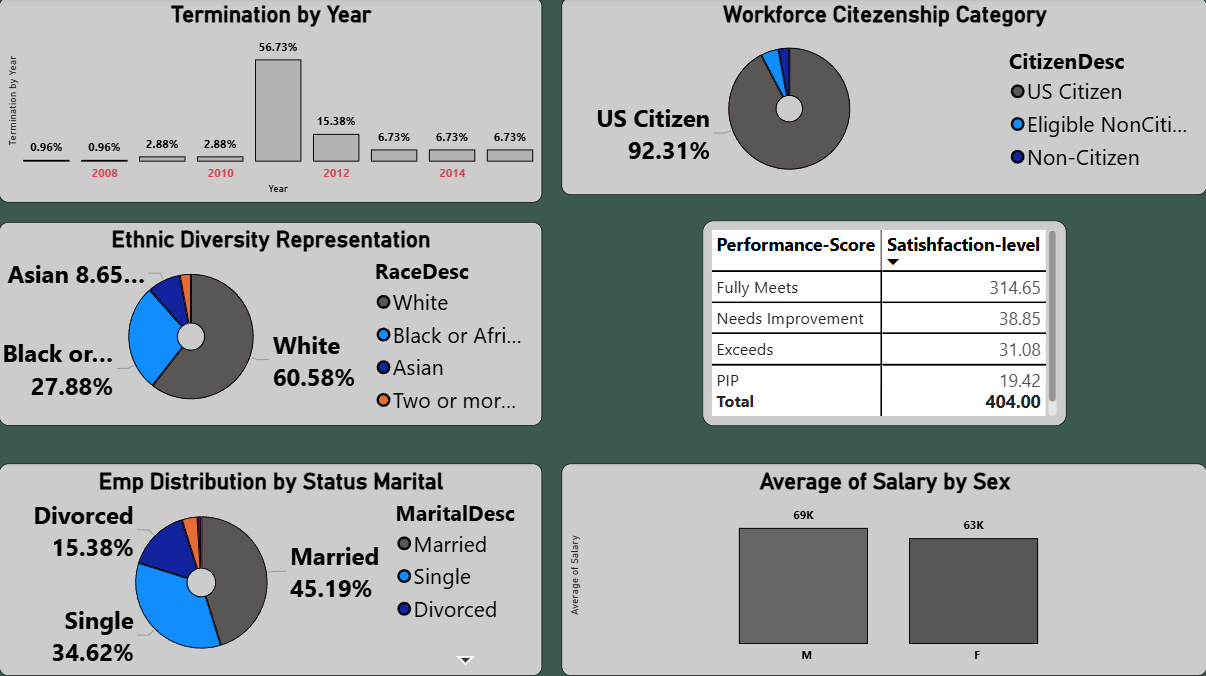

The page's visual inventory and layout, read from the dashboard file:
{"tool":"powerbi","page":{"name":"Detailed Analysis","canvas":[1280,720],"ordinal":1},"visuals":[{"type":"clusteredColumnChart","title":"Termination by Year ","fields":{"Y":["CountNonNull(HRDataset.DateofTermination)"],"Category":["HRDataset.DateofHire.Variation.Date Hierarchy.Year","HRDataset.DateofHire.Variation.Date Hierarchy.Quarter","HRDataset.DateofHire.Variation.Date Hierarchy.Month","HRDataset.DateofHire.Variation.Date Hierarchy.Day"]},"box":[0,0,575.8,217.9],"z":0},{"type":"clusteredColumnChart","fields":{"Category":["HRDataset.Sex"],"Y":["Avg(HRDataset.Salary)"]},"box":[596,494.9,684.7,225.7],"z":1000},{"type":"donutChart","title":"Ethnic Diversity Representation","fields":{"Category":["HRDataset.RaceDesc"],"Y":["Sum(HRDataset.Total Employees)"]},"box":[0,238.1,575.8,216.3],"z":2000},{"type":"pieChart","title":"Emp Distribution by Status Marital","fields":{"Category":["HRDataset.MaritalDesc"],"Y":["CountNonNull(HRDataset.MaritalStatusID)"]},"box":[0,494.9,575.8,225.7],"z":3000},{"type":"donutChart","title":"Workforce Citezenship Category","fields":{"Category":["HRDataset.CitizenDesc"],"Y":["CountNonNull(HRDataset.EmpID)"]},"box":[596,0,684.7,210.1],"z":4000},{"type":"pivotTable","fields":{"Rows":["HRDataset.PerformanceScore"],"Values":["Sum(HRDataset.AvgEmpSatisfaction)"]},"box":[745.4,236.5,385.9,217.9],"z":5000}]}

Visuals, with their boxes in screenshot pixels (x1, y1, x2, y2), scaled from the page's 1280x720 canvas onto the 1206x676 screenshot:
"Termination by Year " clusteredColumnChart: 0 0 543 205
clusteredColumnChart - HRDataset.Sex x Avg(HRDataset.Salary): 562 465 1205 675
"Ethnic Diversity Representation" donutChart: 0 224 543 427
"Emp Distribution by Status Marital" pieChart: 0 465 543 675
"Workforce Citezenship Category" donutChart: 562 0 1205 197
pivotTable - HRDataset.PerformanceScore x Sum(HRDataset.AvgEmpSatisfaction): 702 222 1066 427
